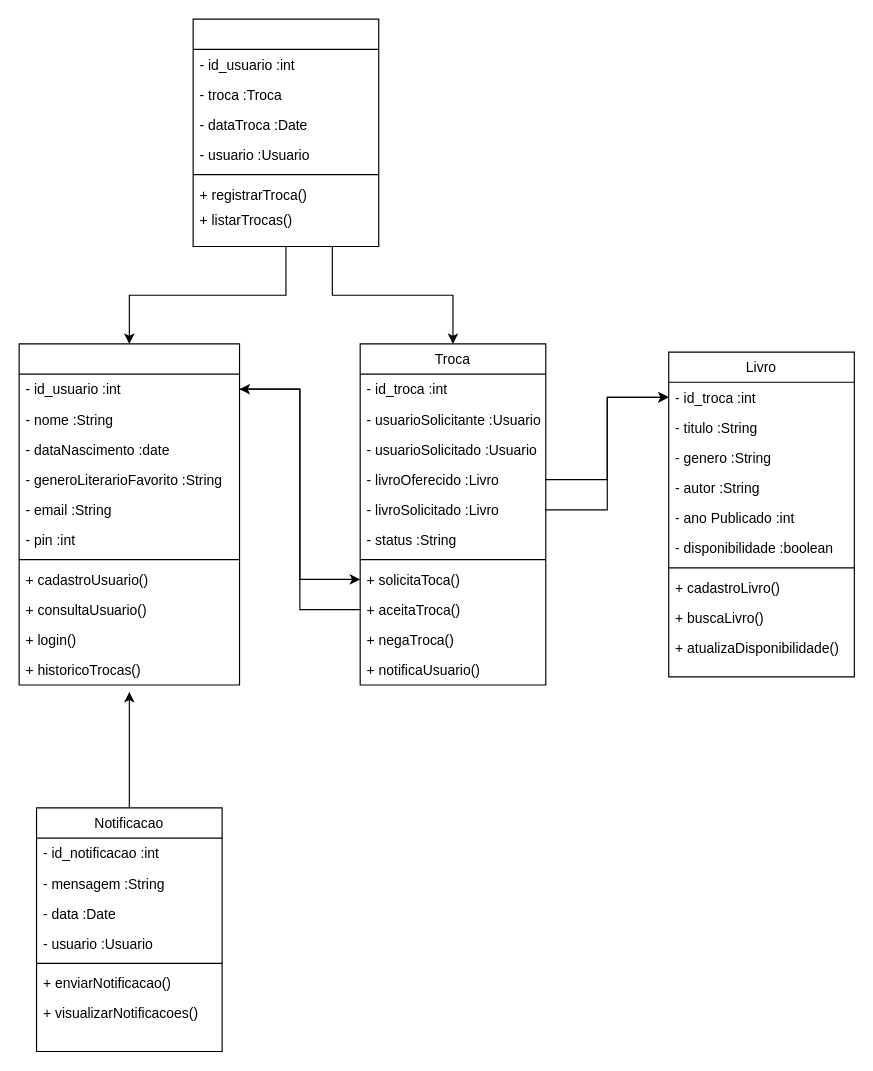
Some shapes in this 873 by 1071 pixel diagram are drawn without their labels. Each missing label, with the box of its shape:
HistoricoTroca: (192, 18, 379, 246)
Usuário: (18, 343, 240, 685)
